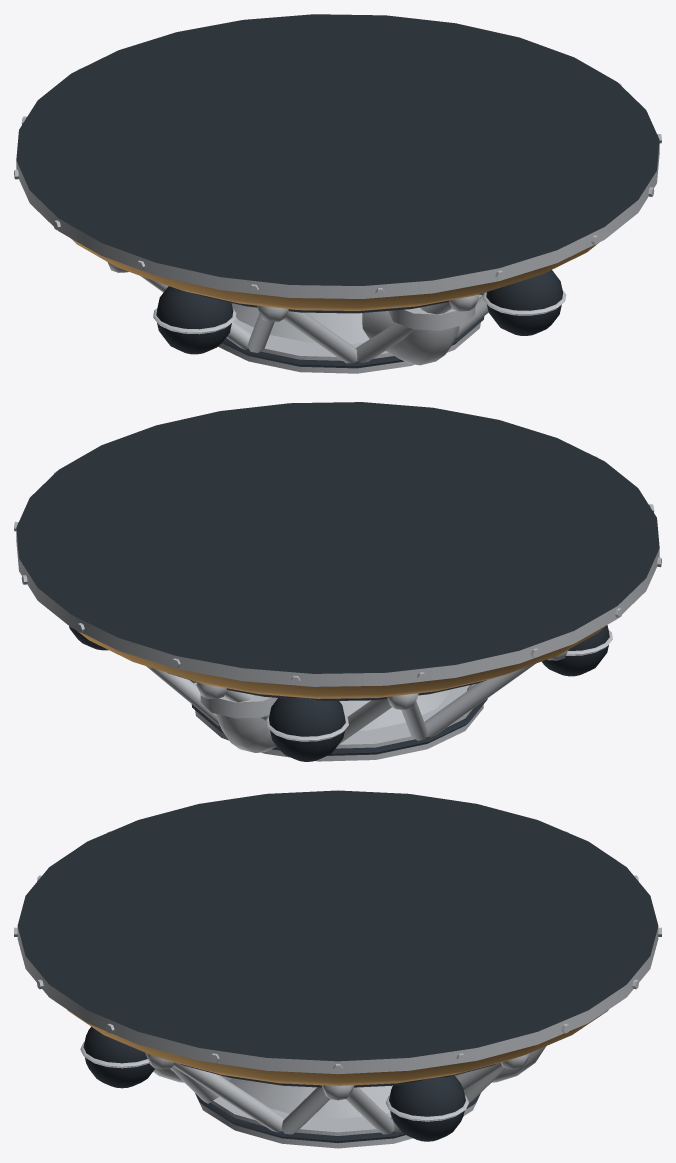
File: mount_s2_1_d15.glb
3 renders of one model, top to bottom at view 1: azimuth 30°, elevation 25°; view 2: azimuth 150°, elevation 25°; view 3: azimuth 270°, elevation 25°, orthographic.
Parts seen in each view (by area): view 1: mount_s2_1_d15_mesh; view 2: mount_s2_1_d15_mesh; view 3: mount_s2_1_d15_mesh.
Part boxes in pixels (x1=…): mount_s2_1_d15_mesh: x1=14, y1=14, x2=661, y2=373; mount_s2_1_d15_mesh: x1=14, y1=402, x2=661, y2=761; mount_s2_1_d15_mesh: x1=14, y1=790, x2=661, y2=1148.
Size of the model in its own units: 1.28 by 0.35 by 1.28.
